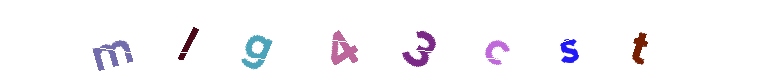3: (387, 0, 467, 80)
4: (351, 0, 431, 80)
C: (401, 0, 481, 80)
G: (312, 0, 392, 80)
L: (216, 0, 296, 80)
M: (77, 0, 157, 80)
S: (424, 0, 504, 80)
T: (529, 0, 609, 80)
